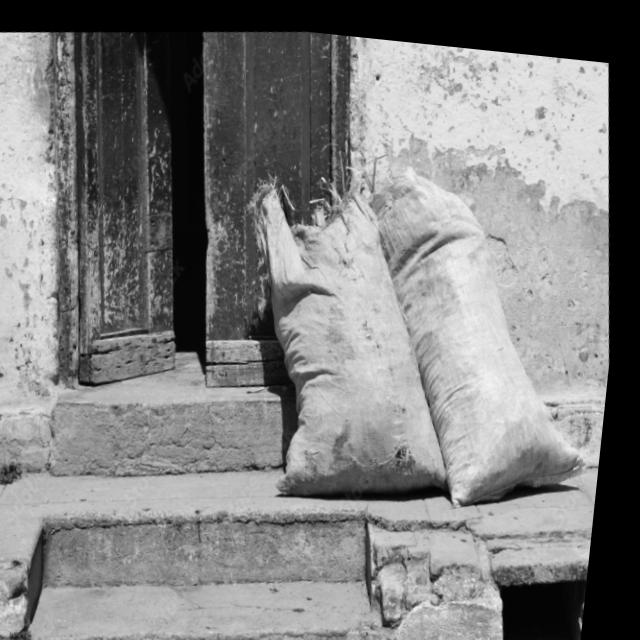sack: (353, 147, 622, 515), (231, 151, 481, 502)
